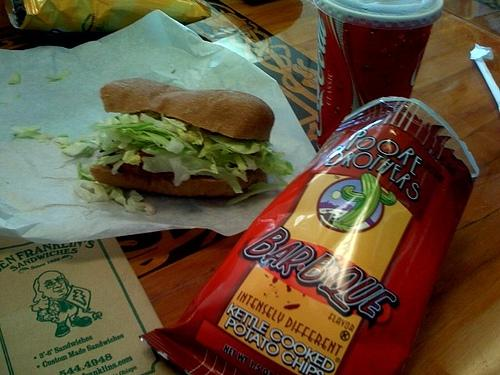lettuce: (118, 127, 169, 148), (143, 130, 184, 154), (141, 145, 199, 159), (127, 190, 157, 216), (62, 142, 98, 157), (60, 134, 96, 148), (232, 152, 247, 172), (45, 69, 71, 80)
